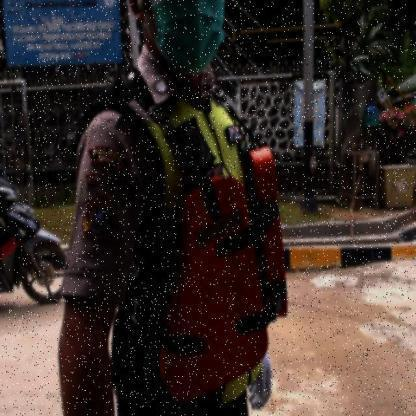gloves: (246, 346, 279, 412)
mask: (145, 0, 230, 72)
vest: (146, 146, 294, 390)
